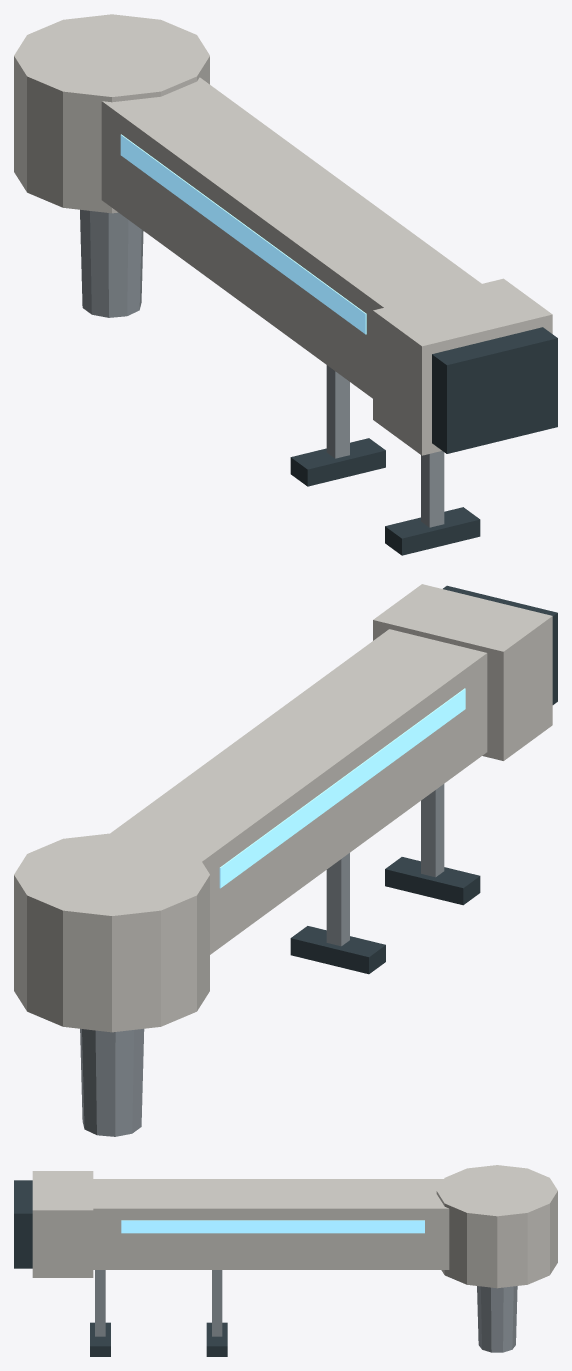
The model's file is airport_jetbridge.glb.
3 views of the same model, one above another, from view 1: azimuth 30°, elevation 25°; view 2: azimuth 150°, elevation 25°; view 3: azimuth 270°, elevation 25° (orthographic). The views are drawn at different scales.
Visible parts, largest first — view 1: AirportJetbridge_body; view 2: AirportJetbridge_body; view 3: AirportJetbridge_body.
Boxes of the visible parts, x1,y1,x2,y2 form: AirportJetbridge_body: (14, 14, 557, 555); AirportJetbridge_body: (14, 584, 557, 1136); AirportJetbridge_body: (14, 1165, 557, 1356).
Bounding box in the file's own units: 5.2 × 7.3 × 23.3.
